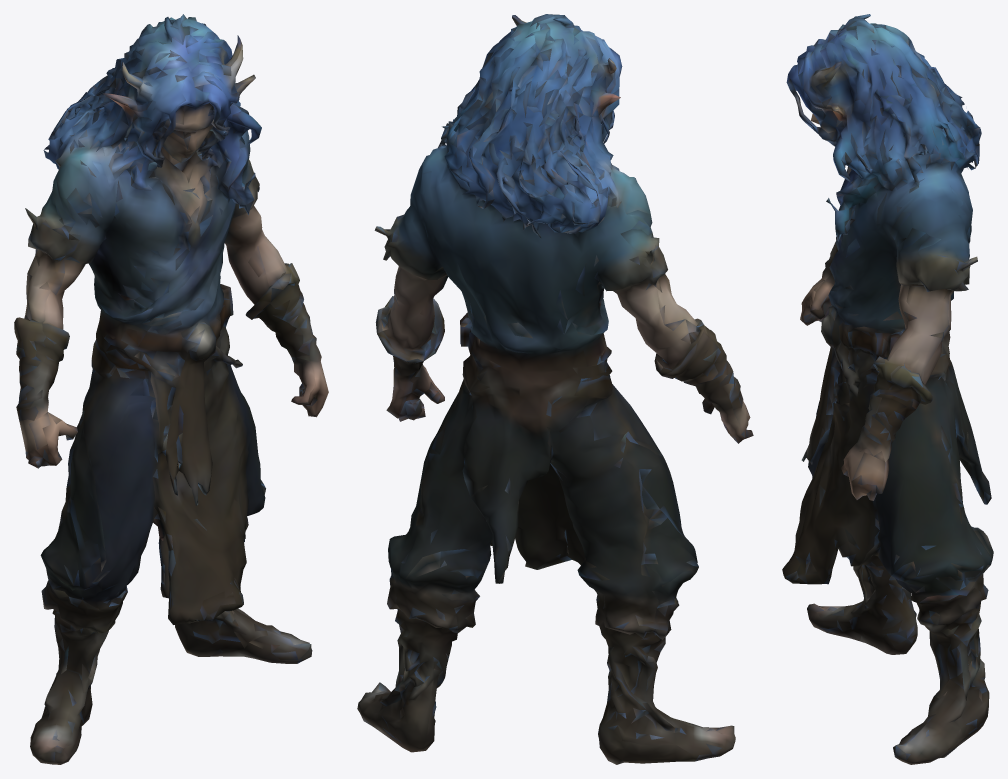
File: Penny (2)_final.glb
3 renders of one model, left to right at view 1: azimuth 30°, elevation 25°; view 2: azimuth 150°, elevation 25°; view 3: azimuth 270°, elevation 25°, orthographic. The views are drawn at different scales.
Visible parts, largest first — view 1: Mesh1.0; view 2: Mesh1.0; view 3: Mesh1.0.
Part boxes in pixels (x1,y1,x2,y2): Mesh1.0: (14,14,328,764); Mesh1.0: (357,14,753,764); Mesh1.0: (782,14,993,764).
Size of the model in its own units: 1 by 2 by 0.5699.
Materials: 1 (1 with a texture image).
